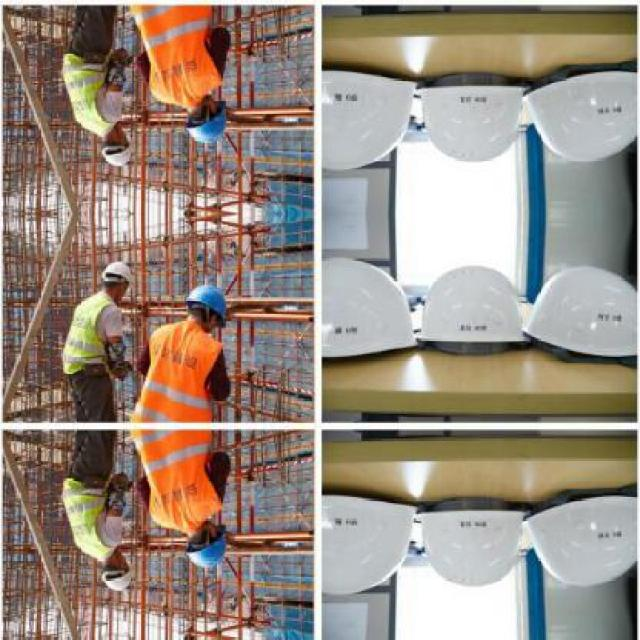helmet: (179, 278, 230, 331), (179, 518, 230, 571), (179, 94, 230, 146), (100, 259, 131, 295), (100, 130, 131, 165), (100, 555, 131, 590)
